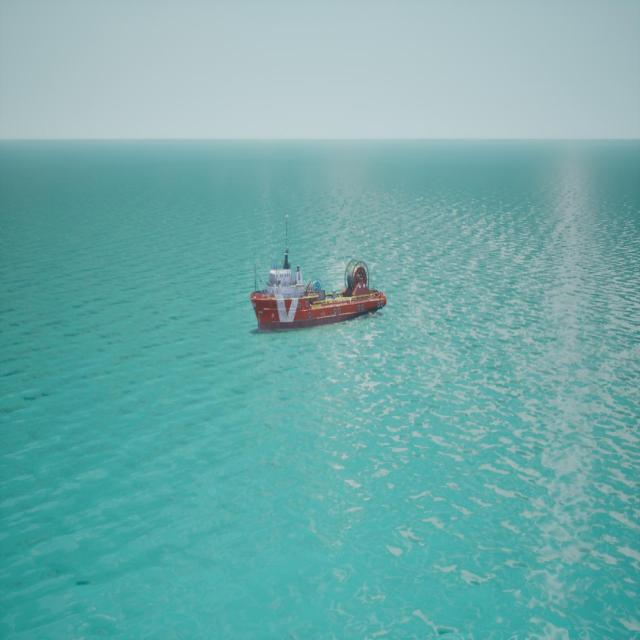tug boat: (249, 242, 387, 337)
